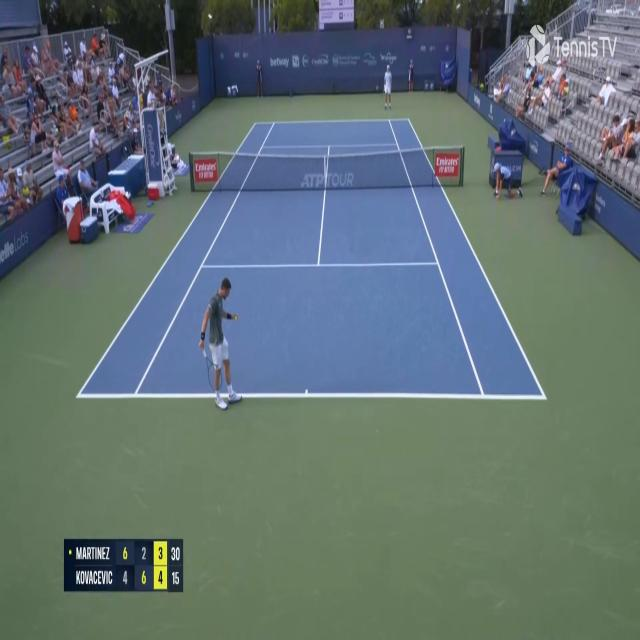tennis-player: (198, 270, 244, 416), (382, 63, 393, 108)
